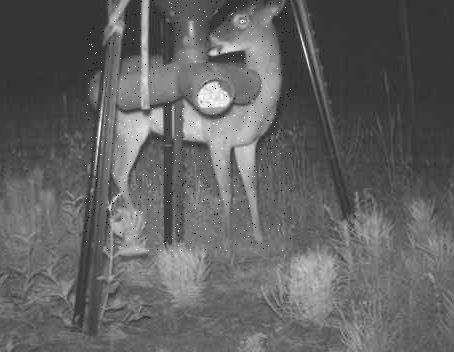Deer: (85, 0, 291, 251)
